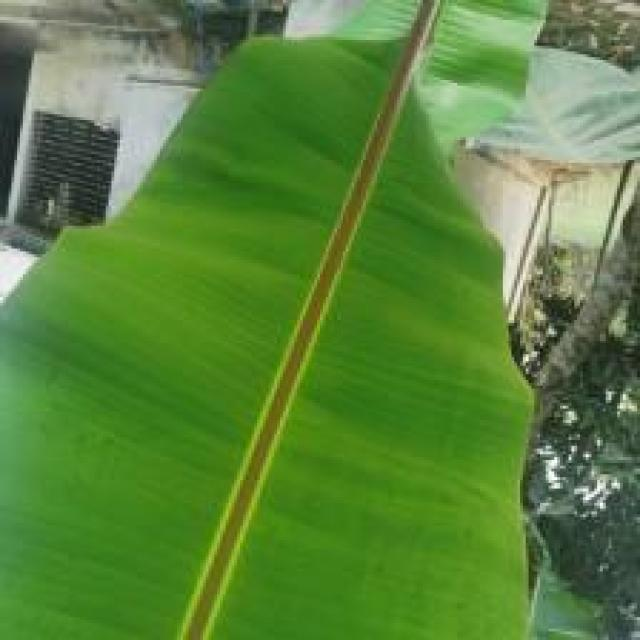Black_leaf_spot: (0, 12, 549, 637)
